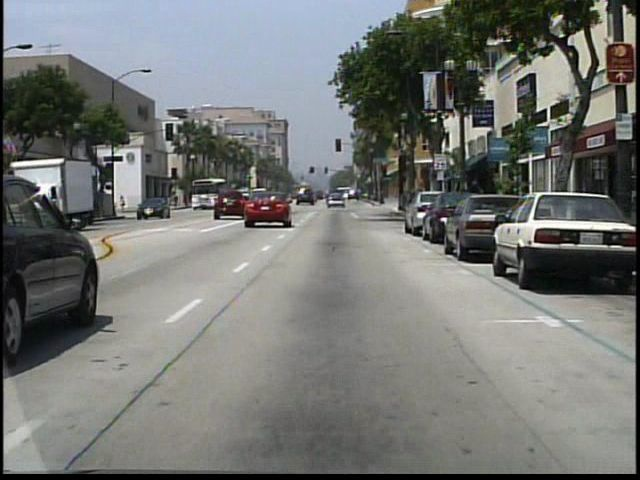person: (120, 196, 129, 215)
